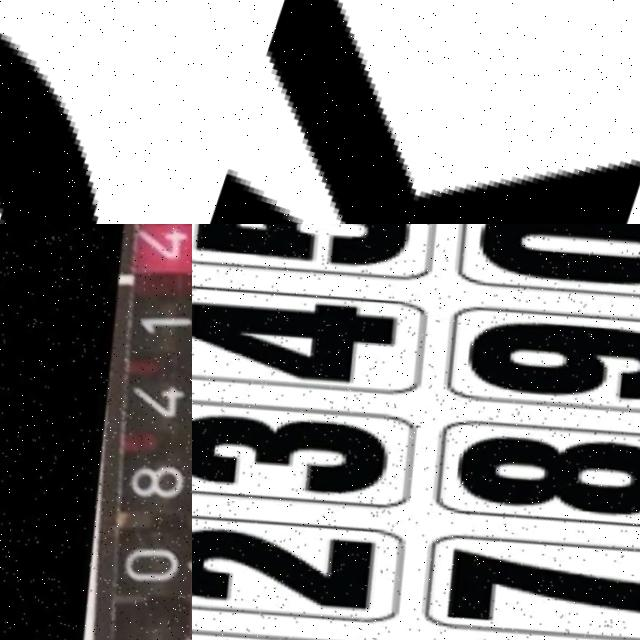0: (460, 224, 640, 333), (117, 532, 192, 595)
1: (133, 297, 192, 349), (114, 618, 189, 640)
2: (192, 475, 399, 640)
3: (192, 360, 411, 543)
4: (192, 242, 423, 432), (119, 368, 192, 430), (123, 224, 192, 274)
5: (192, 224, 432, 316)
7: (429, 499, 640, 640)
8: (439, 381, 640, 562), (121, 447, 192, 512)
9: (449, 268, 640, 447)
K: (192, 0, 640, 224)
U: (0, 0, 192, 224)
